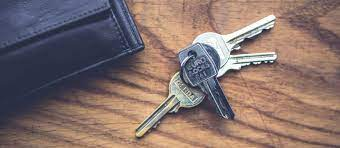key: (132, 14, 280, 137)
